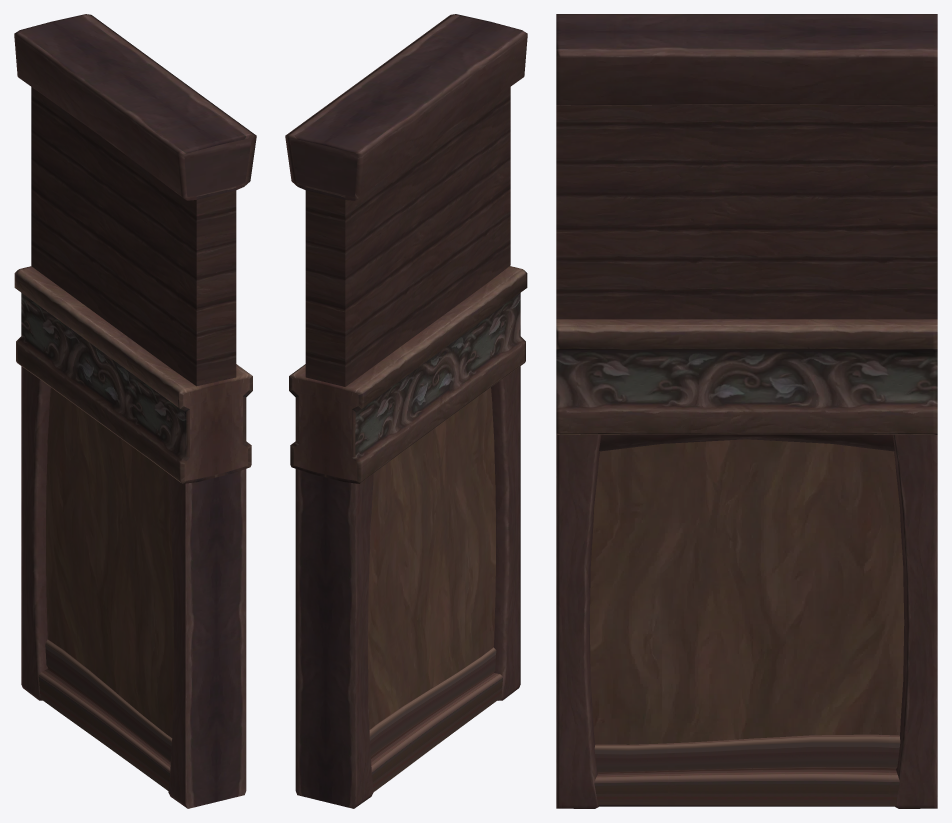
3 renders of one model, left to right at view 1: azimuth 30°, elevation 25°; view 2: azimuth 150°, elevation 25°; view 3: azimuth 270°, elevation 25°, orthographic. The views are drawn at different scales.
Bounding box in the file's own units: 1.35 × 11.01 × 5.
5 materials, 5 textured.
